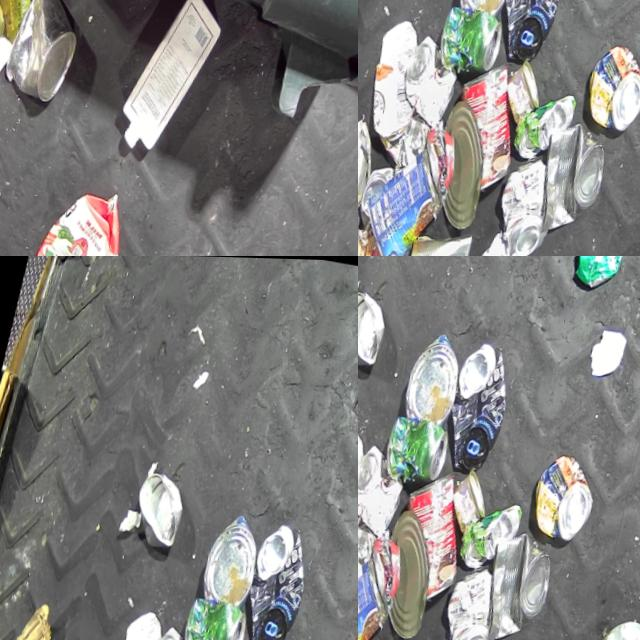can: (448, 55, 541, 193), (394, 465, 487, 603), (364, 137, 467, 256), (443, 336, 526, 472), (537, 115, 624, 238), (241, 516, 324, 640), (433, 97, 509, 229), (379, 507, 455, 639), (483, 524, 569, 640), (6, 0, 96, 101), (499, 151, 573, 256), (532, 448, 610, 541), (403, 31, 475, 128), (203, 509, 273, 604), (405, 328, 475, 423), (358, 440, 420, 538), (445, 561, 519, 640), (442, 1, 516, 77), (388, 411, 462, 487), (132, 463, 197, 546), (520, 84, 587, 162), (466, 494, 533, 572), (497, 0, 580, 62), (358, 547, 413, 640), (586, 37, 640, 131), (185, 592, 260, 640), (358, 114, 392, 219), (507, 55, 557, 123), (453, 465, 503, 533), (358, 281, 398, 365), (367, 160, 405, 228), (412, 221, 485, 256), (572, 256, 640, 288), (358, 226, 426, 256), (602, 612, 640, 640), (358, 201, 373, 256)
milk_jug: (121, 0, 236, 160)
non_white_jug: (27, 175, 147, 256)
